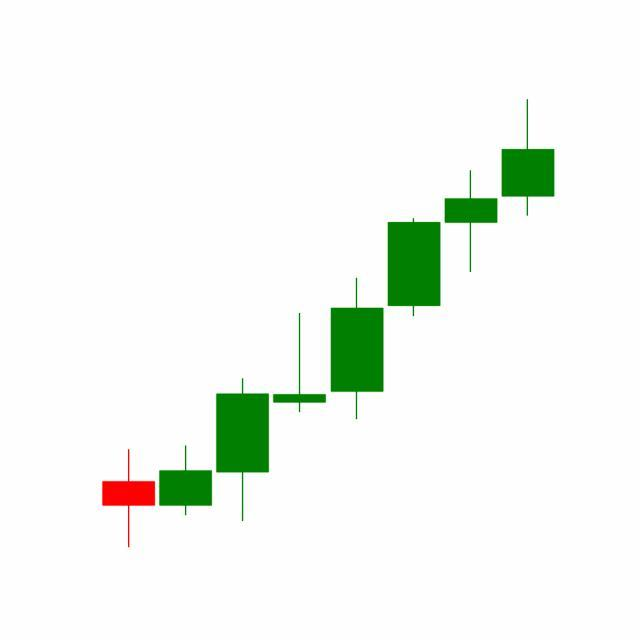Advance Block: (328, 167, 500, 423)
